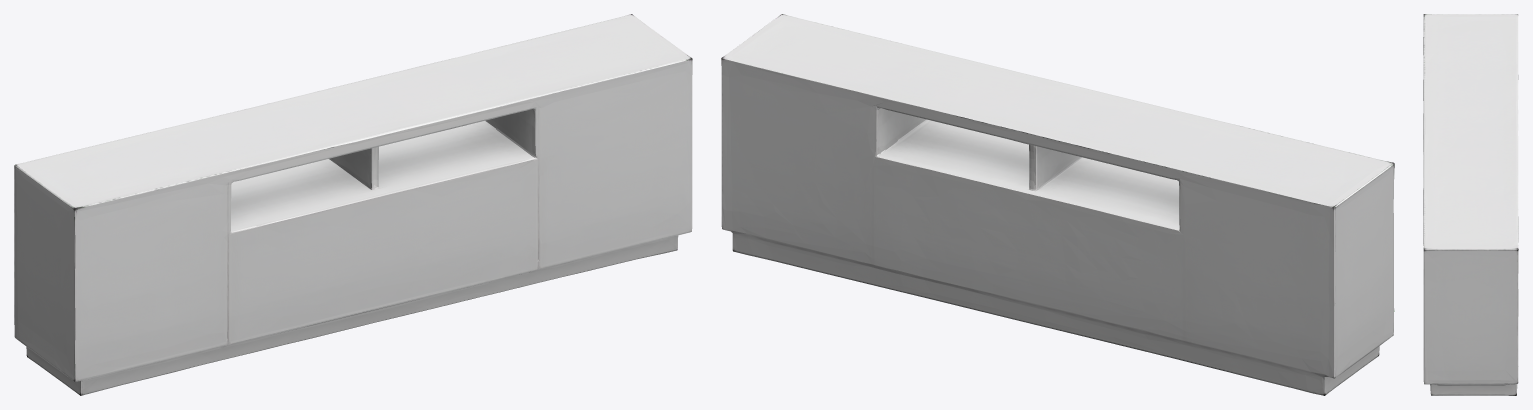
The model's file is mwbr20atv_stand_madeira_white.glb.
The picture shows the model from 3 angles, left to right: view 1: azimuth 30°, elevation 25°; view 2: azimuth 150°, elevation 25°; view 3: azimuth 270°, elevation 25°; orthographic projection. The views are drawn at different scales.
Parts seen in each view (by area): view 1: world; view 2: world; view 3: world.
Part boxes in pixels (<box>): world: <box>14,14,692,395</box>; world: <box>721,14,1394,395</box>; world: <box>1423,14,1518,395</box>.
Bounding box in the file's own units: 1 × 0.3007 × 0.1716.
1 material, 1 textured.
